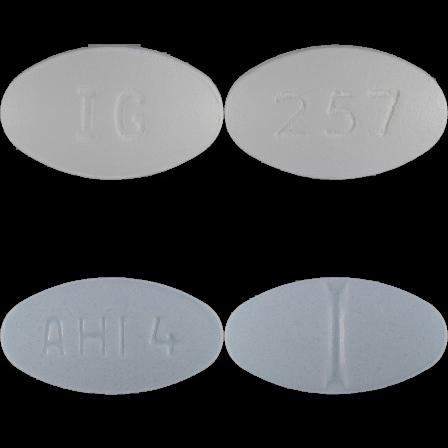63187-484: (0, 0, 224, 224)
